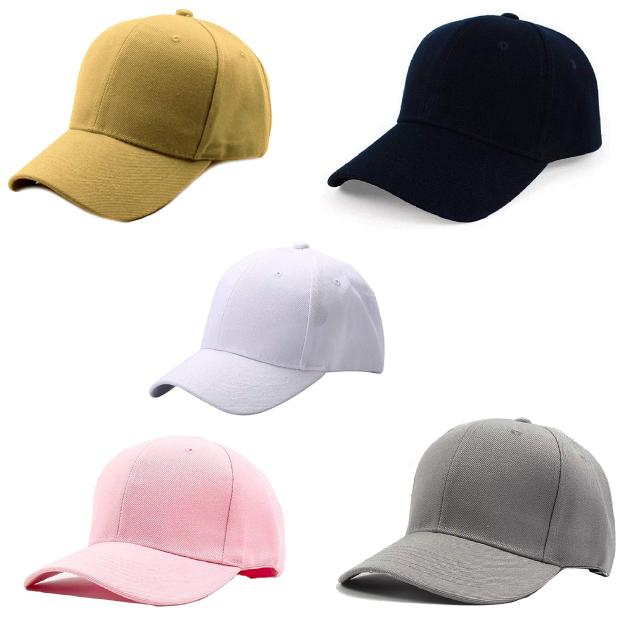mask: (8, 1, 640, 640)
